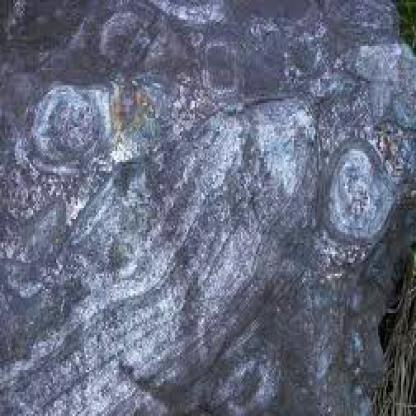Igneous_Diorite: (1, 6, 412, 415)
